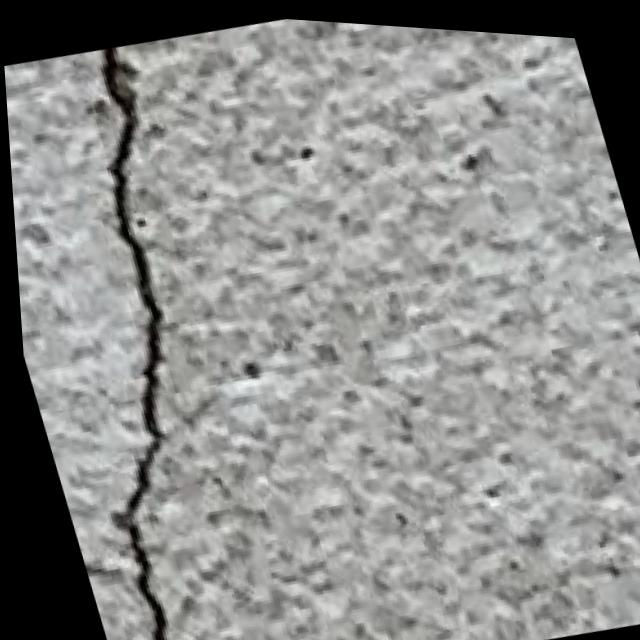Crack: (1, 26, 349, 640)
